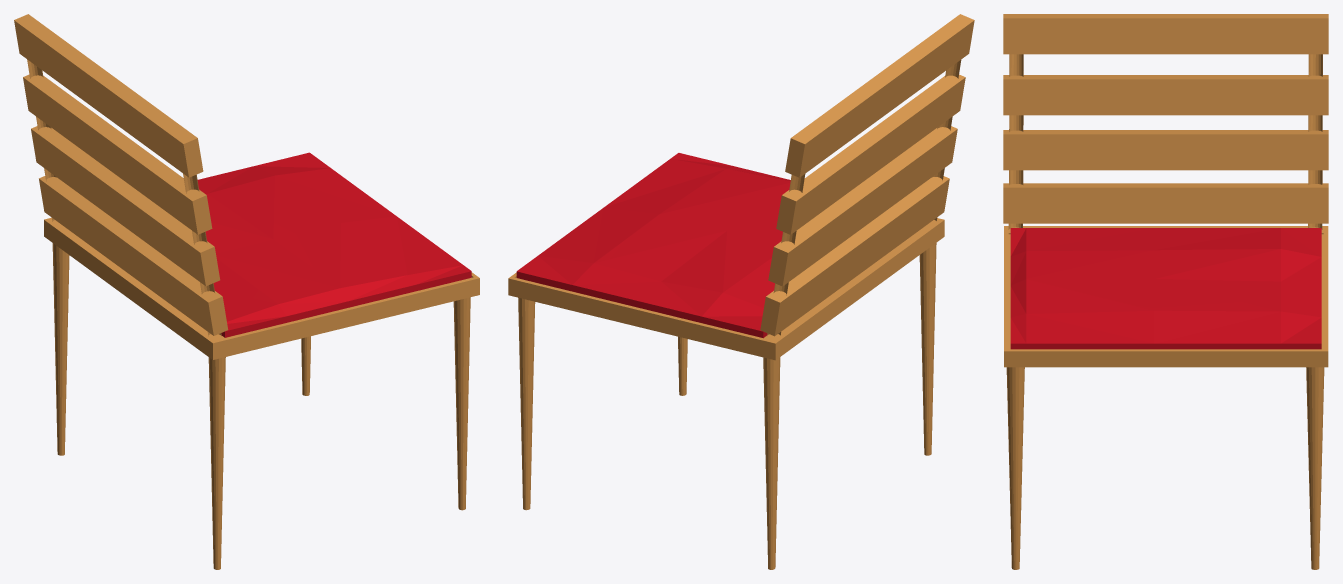
File: chair1.gltf
3 renders of one model, left to right at view 1: azimuth 30°, elevation 25°; view 2: azimuth 150°, elevation 25°; view 3: azimuth 270°, elevation 25°, orthographic. The views are drawn at different scales.
Parts seen in each view (by area): view 1: Cube_022_Cube.023, Cube_021_Cube.020; view 2: Cube_022_Cube.023, Cube_021_Cube.020; view 3: Cube_022_Cube.023, Cube_021_Cube.020.
Part boxes in pixels (bbox=[...]): Cube_022_Cube.023: bbox=[14, 14, 479, 569]; Cube_021_Cube.020: bbox=[197, 152, 471, 337]; Cube_022_Cube.023: bbox=[508, 14, 974, 569]; Cube_021_Cube.020: bbox=[516, 153, 790, 338]; Cube_022_Cube.023: bbox=[1003, 14, 1328, 569]; Cube_021_Cube.020: bbox=[1010, 228, 1321, 349].
Bounding box in the file's own units: 0.4328 × 0.615 × 0.4283.
